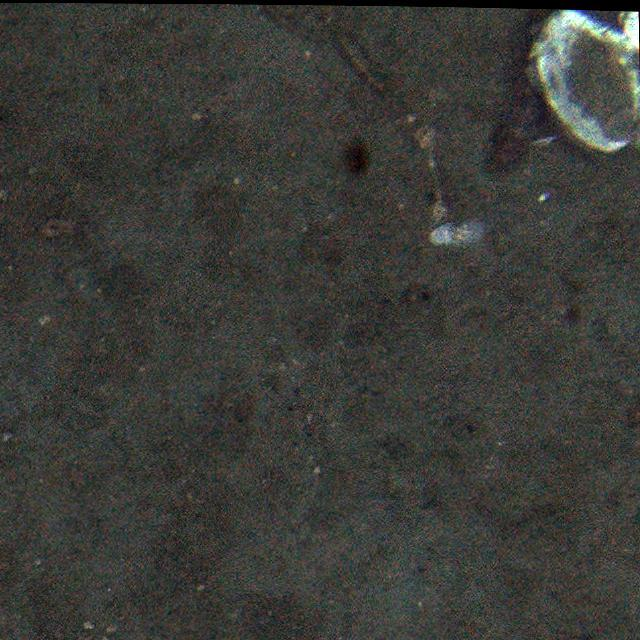roundfish: (491, 12, 556, 176)
